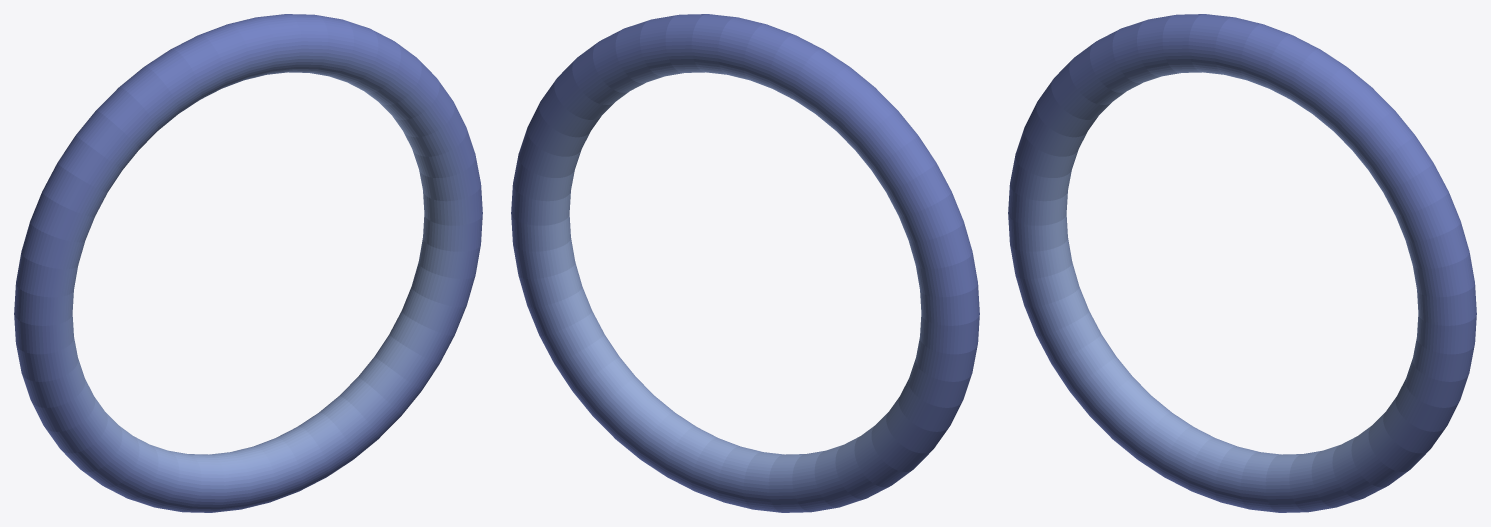
3 renders of one model, left to right at view 1: azimuth 30°, elevation 25°; view 2: azimuth 150°, elevation 25°; view 3: azimuth 330°, elevation 25°, orthographic.
Parts seen in each view (by area): view 1: world; view 2: world; view 3: world.
Part boxes in pixels (<box>): world: <box>14,14,482,512</box>; world: <box>511,14,979,512</box>; world: <box>1008,14,1476,512</box>.
Size of the model in its own units: 25.47 by 25.42 by 2.79.
